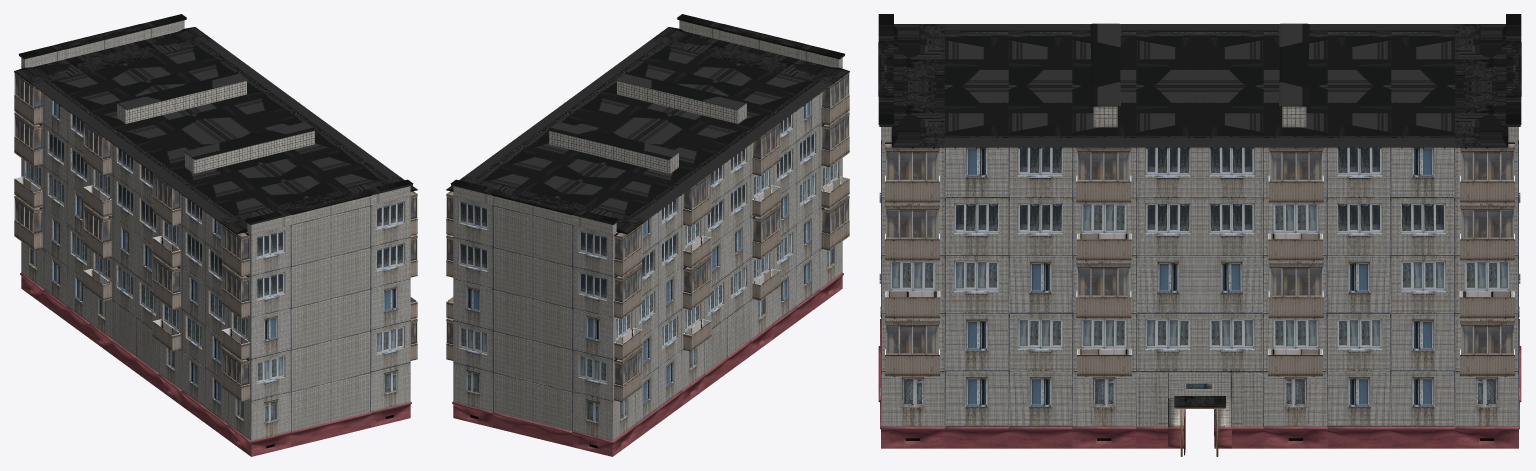
File: DomKarkas.fbx
3 views of the same model, side by side, from view 1: azimuth 30°, elevation 25°; view 2: azimuth 150°, elevation 25°; view 3: azimuth 270°, elevation 25° (orthographic). The views are drawn at different scales.
Parts seen in each view (by area): view 1: Window.045, Window.001; view 2: Window.045, Window.001; view 3: Window.045, Window.002, Window.004.
Part boxes in pixels (x1,y1,x2,y2): Window.045: (14, 14, 417, 456); Window.001: (112, 300, 159, 389); Window.045: (446, 14, 849, 456); Window.001: (704, 300, 751, 389); Window.045: (878, 14, 1521, 448); Window.002: (1136, 371, 1263, 448); Window.004: (1168, 371, 1231, 456).
Size of the model in its own units: 1401 by 1712 by 3026.
